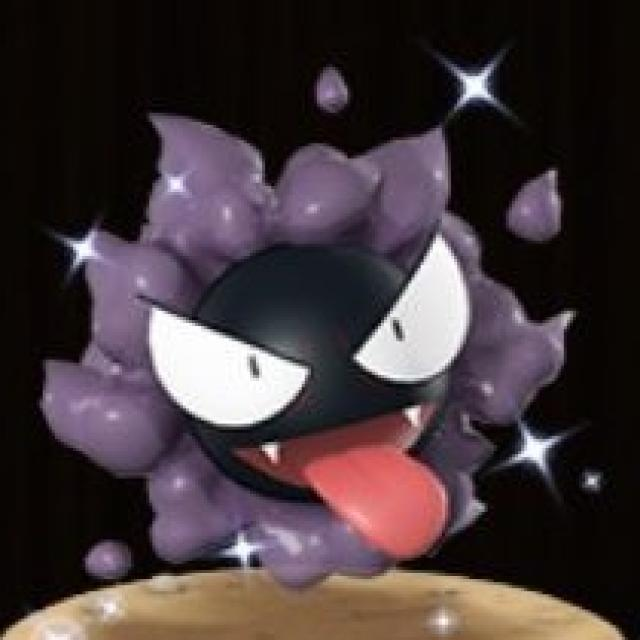Gastly: (28, 50, 582, 609)
